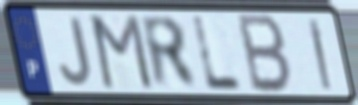B: (236, 11, 294, 96)
I: (306, 16, 334, 93)
J: (57, 15, 94, 88)
L: (190, 13, 246, 93)
M: (88, 12, 156, 93)
R: (137, 13, 202, 92)
